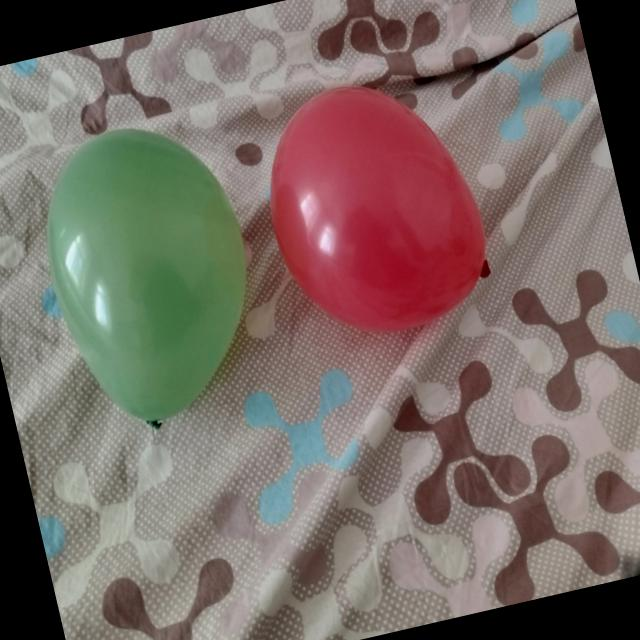balloon: (47, 128, 246, 423), (270, 86, 485, 331)
